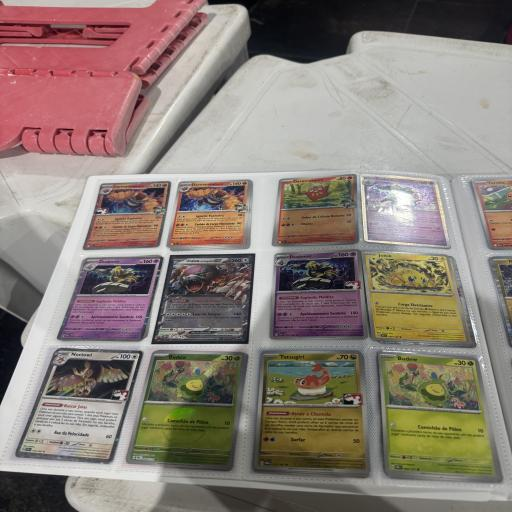card: (15, 321, 154, 489), (378, 345, 503, 487), (254, 347, 376, 474), (124, 346, 247, 470), (357, 250, 476, 345), (56, 252, 164, 343), (266, 249, 369, 343), (153, 255, 253, 341), (269, 174, 361, 249), (80, 180, 175, 250), (166, 179, 252, 248)
